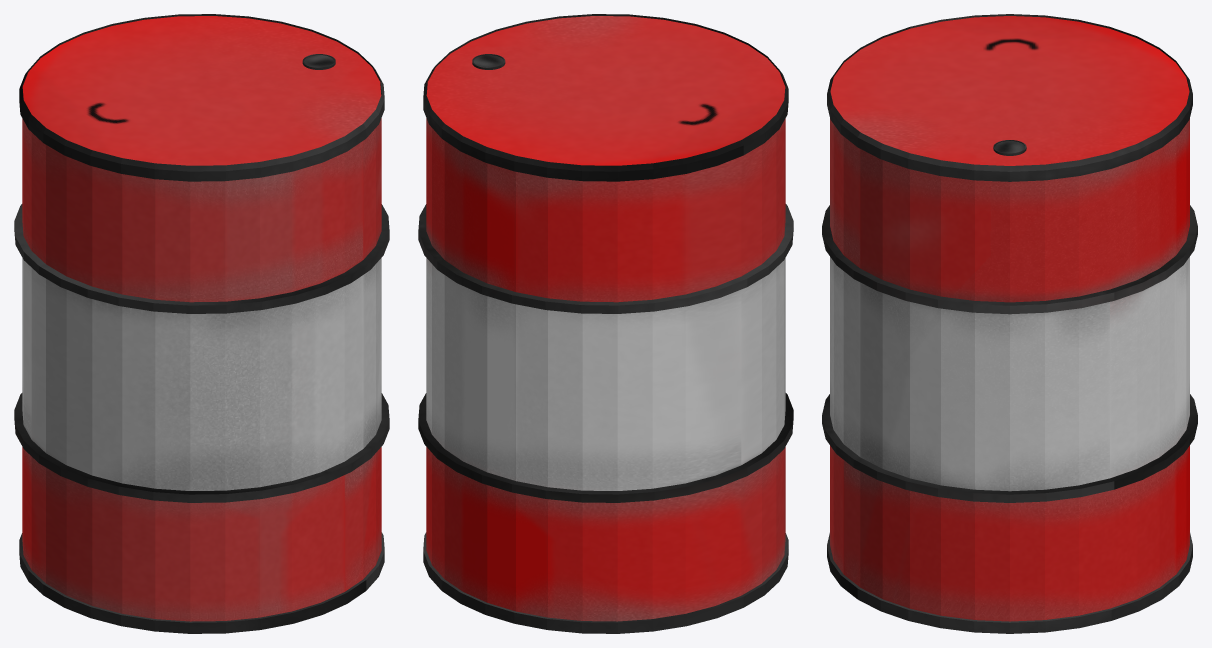
File: FuelBarrelRed.fbx
3 views of the same model, side by side, from view 1: azimuth 30°, elevation 25°; view 2: azimuth 150°, elevation 25°; view 3: azimuth 270°, elevation 25° (orthographic).
Visible parts, largest first — view 1: Circle; view 2: Circle; view 3: Circle.
Boxes of the visible parts, left/top/right/bottom form: Circle: left=14, top=14, right=389, bottom=633; Circle: left=418, top=14, right=793, bottom=633; Circle: left=822, top=14, right=1197, bottom=633.
Bounding box in the file's own units: 209 × 286 × 209.
